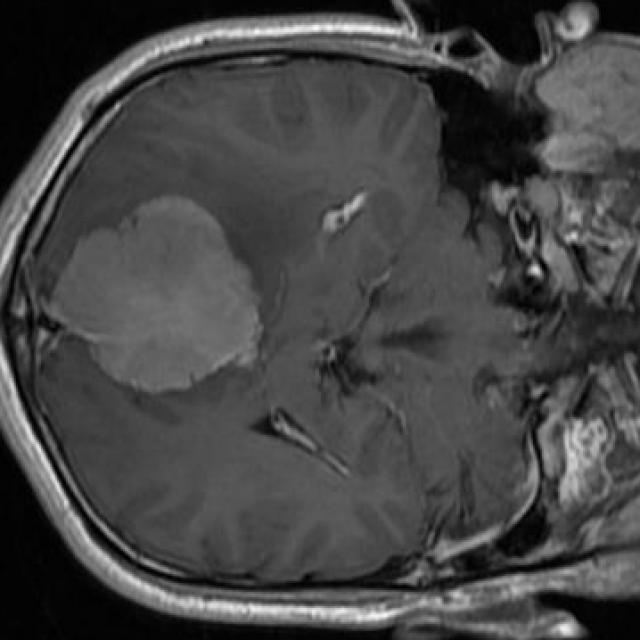meningioma: (48, 196, 264, 392)
